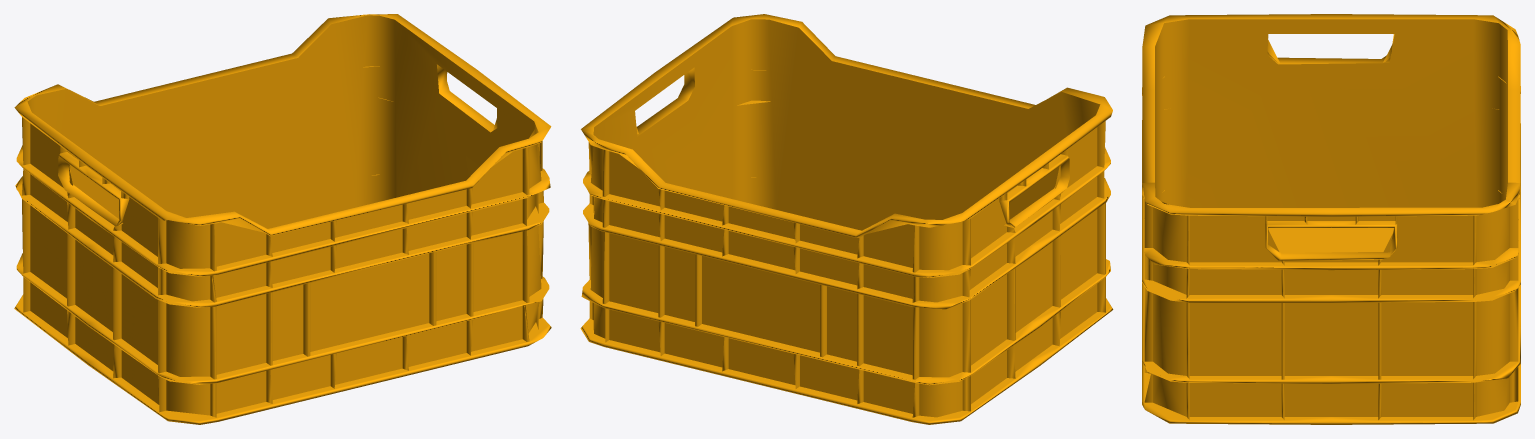
The model's file is plastic_crate_02.glb.
The picture shows the model from 3 angles, left to right: view 1: azimuth 30°, elevation 25°; view 2: azimuth 150°, elevation 25°; view 3: azimuth 270°, elevation 25°; orthographic projection. The views are drawn at different scales.
Parts seen in each view (by area): view 1: plastic_crate_02_0; view 2: plastic_crate_02_0; view 3: plastic_crate_02_0.
Part boxes in pixels (<box>): plastic_crate_02_0: <box>14,14,551,424</box>; plastic_crate_02_0: <box>580,14,1113,424</box>; plastic_crate_02_0: <box>1142,14,1520,424</box>.
Bounding box in the file's own units: 0.5055 × 0.2541 × 0.4055.
